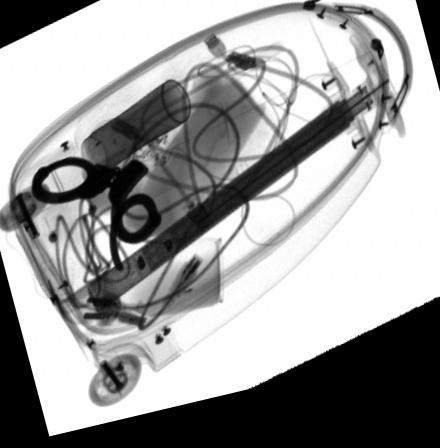HandCuffs: (32, 160, 163, 277)
